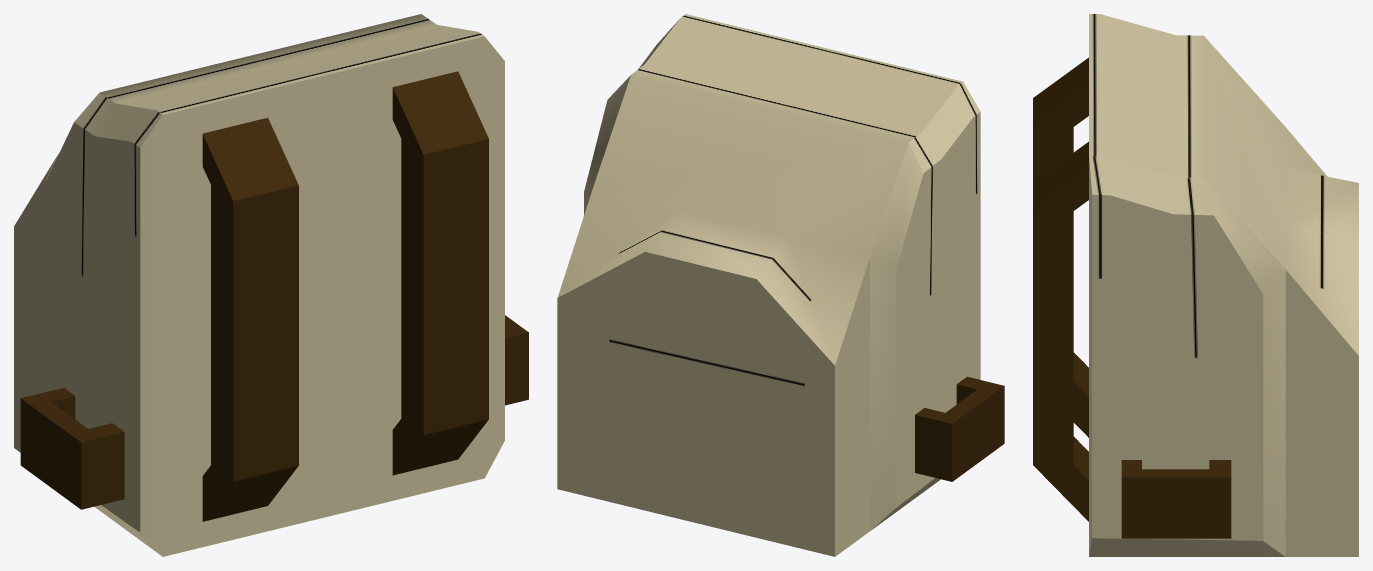
File: BackpackForUnity.fbx
3 renders of one model, left to right at view 1: azimuth 30°, elevation 25°; view 2: azimuth 150°, elevation 25°; view 3: azimuth 270°, elevation 25°, orthographic. The views are drawn at different scales.
Visible parts, largest first — view 1: pCube6; view 2: pCube6; view 3: pCube6.
Boxes of the visible parts, x1,y1,x2,y2 form: pCube6: (14, 14, 528, 556); pCube6: (557, 14, 1004, 556); pCube6: (1033, 14, 1358, 556).
Size of the model in its own units: 1.39 by 1.31 by 0.9674.
1 material, 1 textured.
